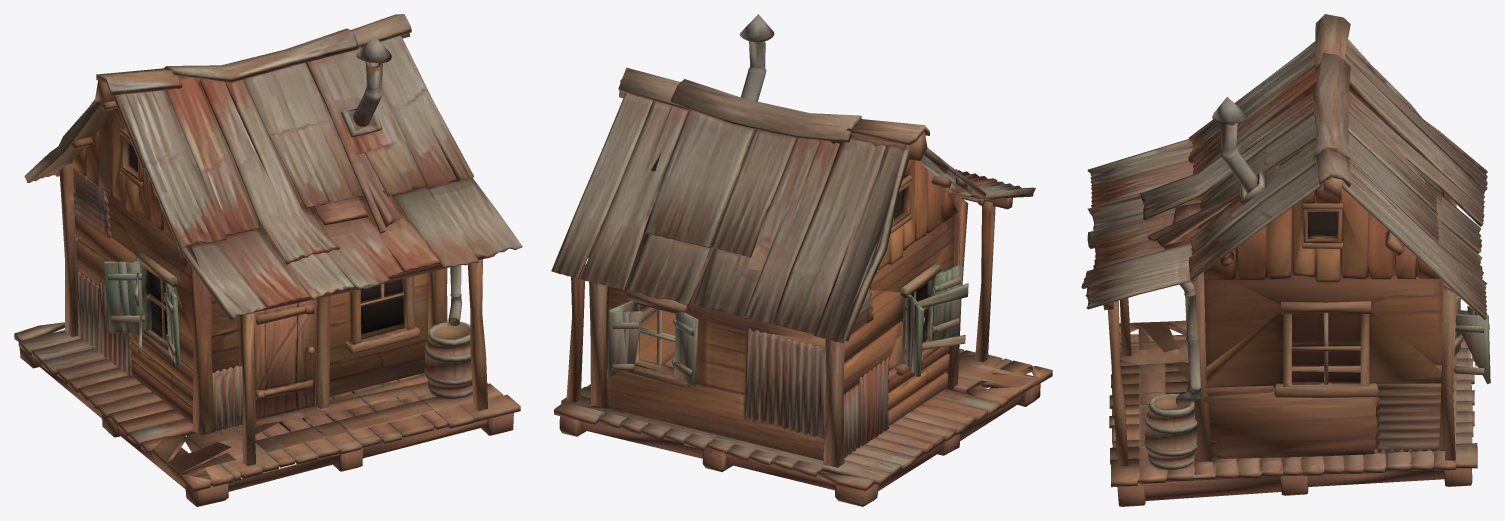
File: wl_shack.glb
The picture shows the model from 3 angles, left to right: view 1: azimuth 30°, elevation 25°; view 2: azimuth 150°, elevation 25°; view 3: azimuth 270°, elevation 25°; orthographic projection.
Visible parts, largest first — view 1: wl_shack; view 2: wl_shack; view 3: wl_shack.
Boxes of the visible parts, left/top/right/bottom form: wl_shack: left=14, top=14, right=522, bottom=506; wl_shack: left=551, top=14, right=1052, bottom=506; wl_shack: left=1081, top=14, right=1490, bottom=506.
Bounding box in the file's own units: 0.9126 × 0.9995 × 0.9966.
1 material, 1 textured.
